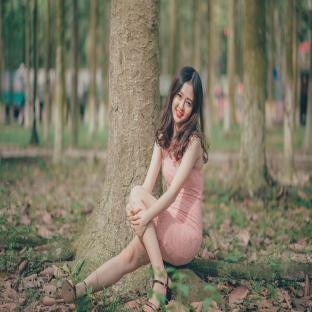Human: (62, 66, 208, 312)
